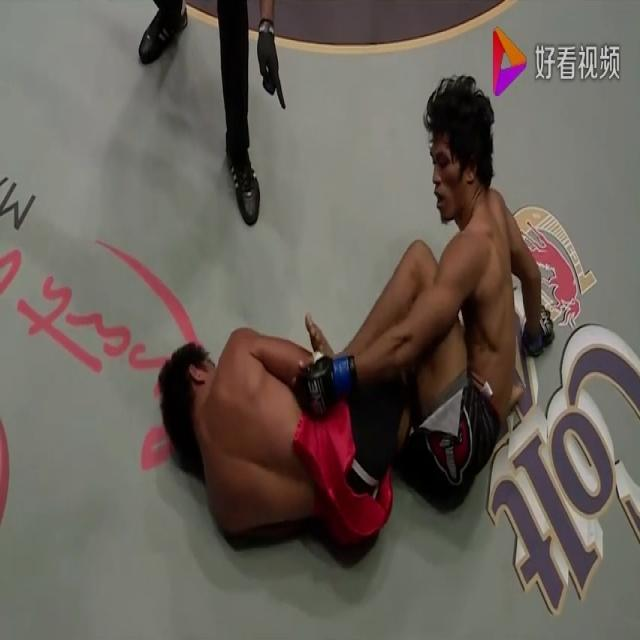fight: (132, 54, 608, 626)
